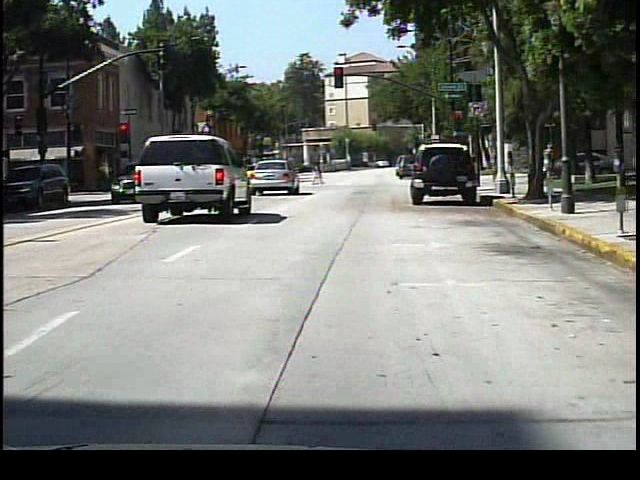person: (541, 140, 560, 184), (310, 156, 329, 187), (460, 152, 477, 184)
